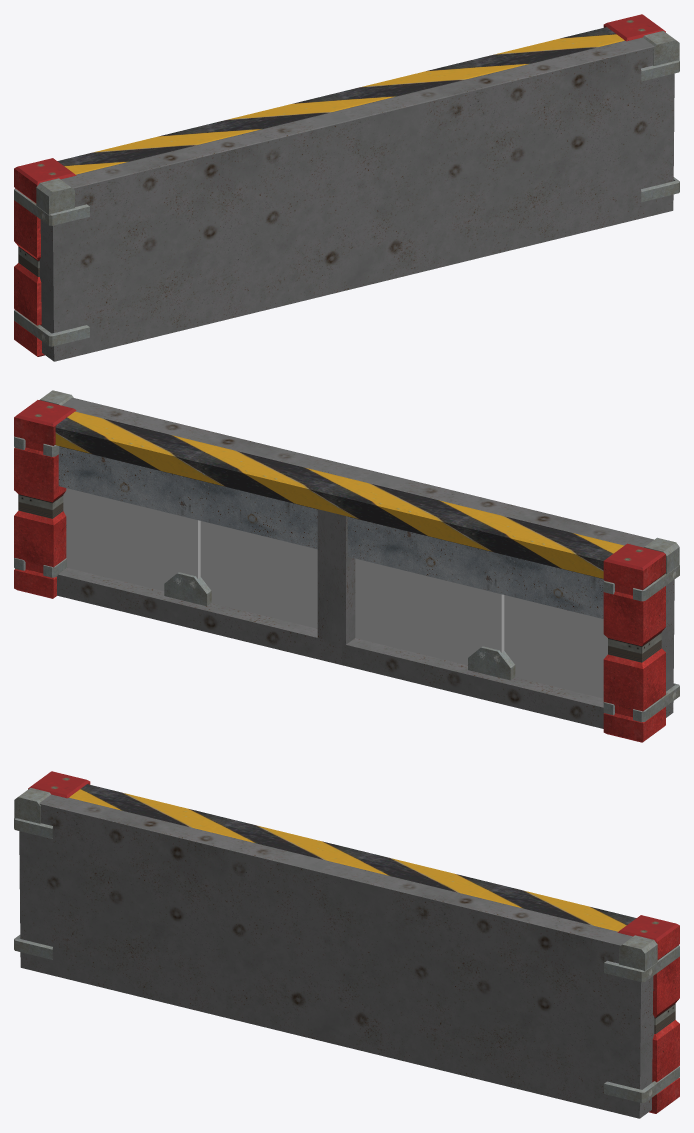
The model's file is Ob_PlatformRoadEnd.fbx.
3 renders of one model, top to bottom at view 1: azimuth 30°, elevation 25°; view 2: azimuth 150°, elevation 25°; view 3: azimuth 330°, elevation 25°, orthographic.
Visible parts, largest first — view 1: Ob_PlatformRoadEnd; view 2: Ob_PlatformRoadEnd; view 3: Ob_PlatformRoadEnd.
Part boxes in pixels (bbox=[...]): Ob_PlatformRoadEnd: bbox=[14, 14, 679, 361]; Ob_PlatformRoadEnd: bbox=[14, 390, 679, 742]; Ob_PlatformRoadEnd: bbox=[14, 771, 679, 1118].
Size of the model in its own units: 1558 by 414 by 160.
